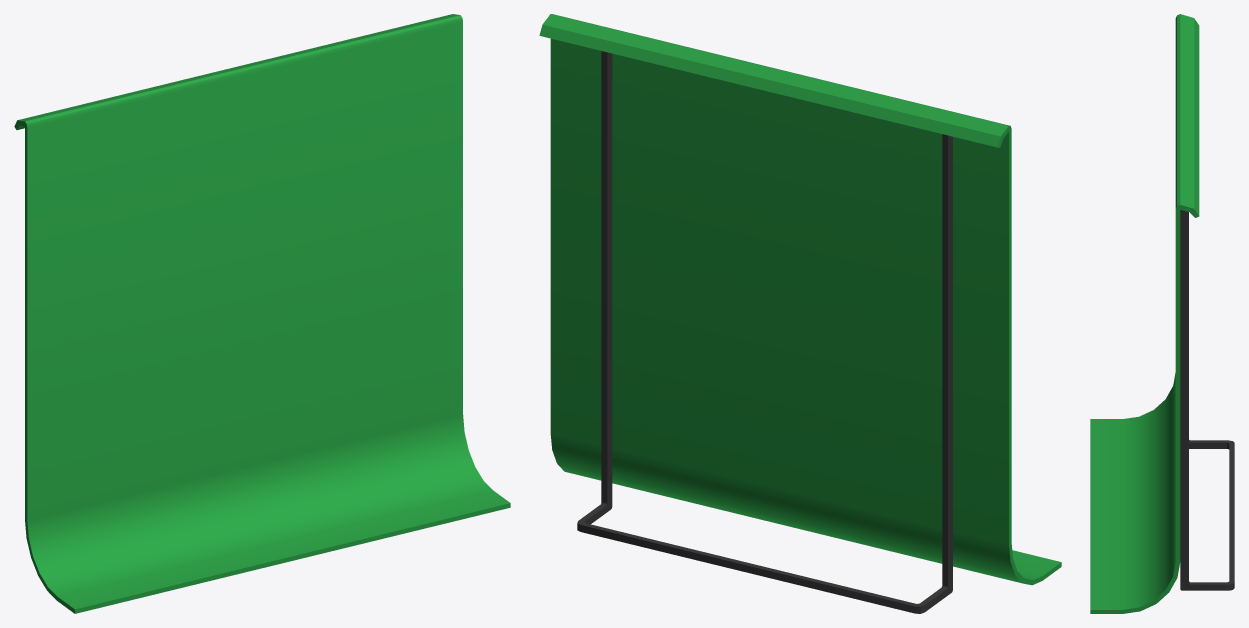
File: green_screen.glb
The picture shows the model from 3 angles, left to right: view 1: azimuth 30°, elevation 25°; view 2: azimuth 150°, elevation 25°; view 3: azimuth 270°, elevation 25°; orthographic projection. The views are drawn at different scales.
Visible parts, largest first — view 1: Green Screen; view 2: Green Screen; view 3: Green Screen.
Boxes of the visible parts, x1,y1,x2,y2 form: Green Screen: (14, 14, 510, 613); Green Screen: (539, 14, 1061, 613); Green Screen: (1090, 14, 1234, 613).
Size of the model in its own units: 2 by 2 by 0.6379.
1 material, 1 textured.
